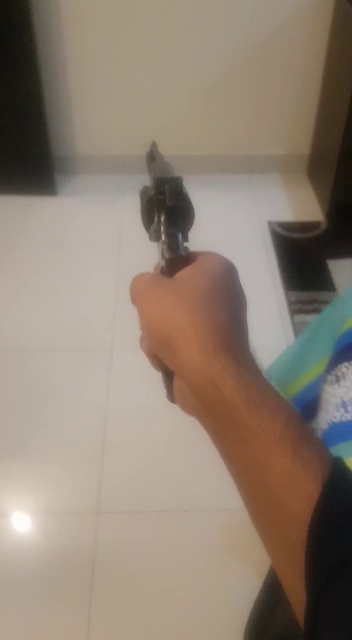handgun: (105, 118, 240, 371)
